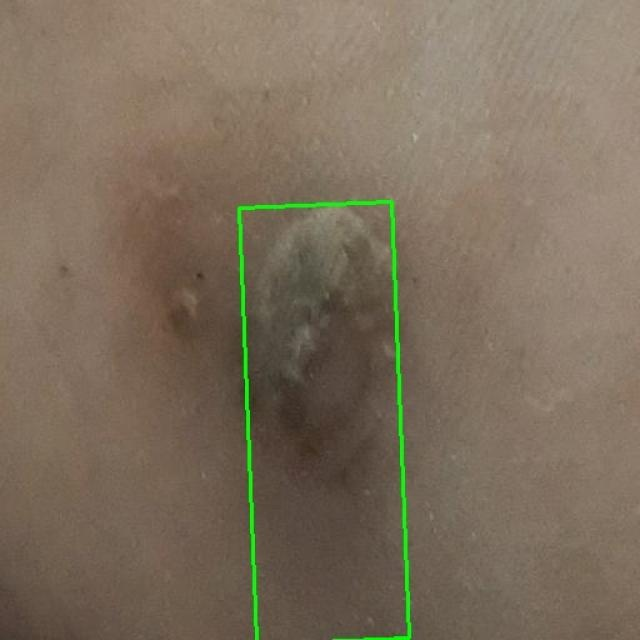Eczema: (239, 202, 410, 640)
